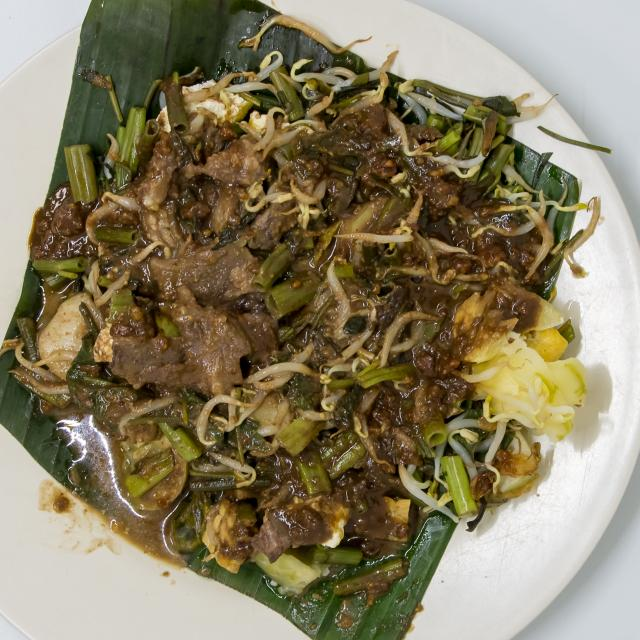Rujak-Cingur: (19, 61, 587, 573)
